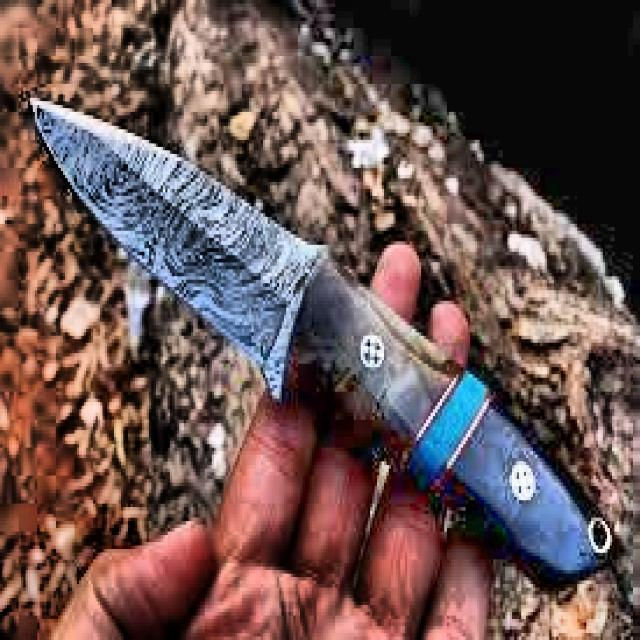knife: (33, 102, 624, 588)
